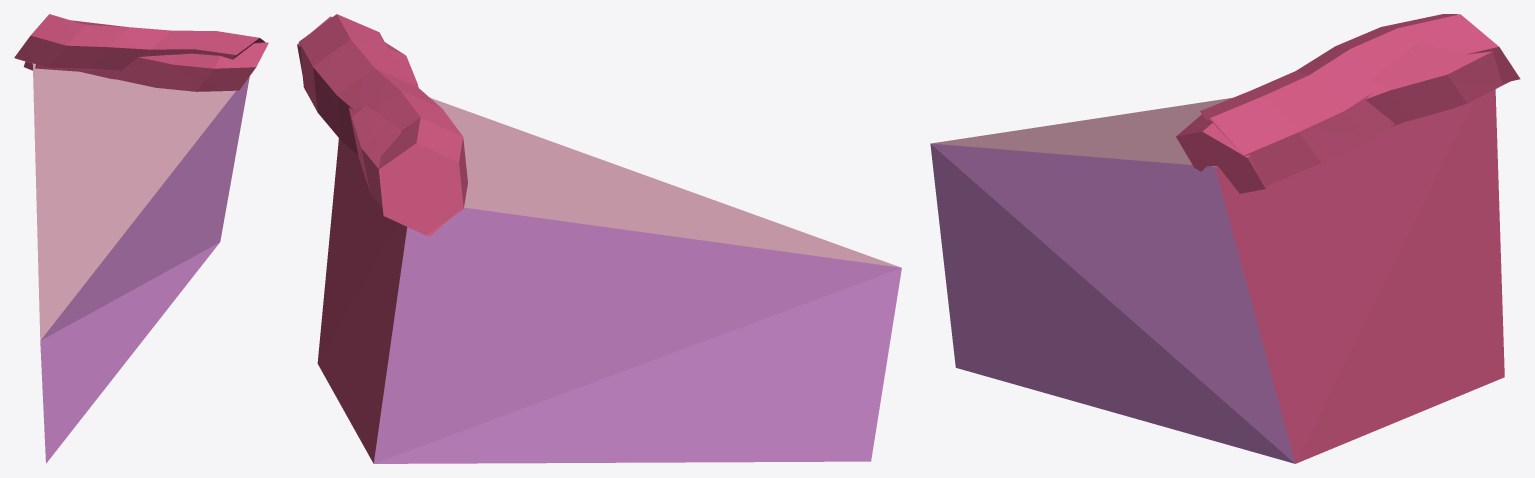
The picture shows the model from 3 angles, left to right: view 1: azimuth 30°, elevation 25°; view 2: azimuth 150°, elevation 25°; view 3: azimuth 270°, elevation 25°; orthographic projection. The views are drawn at different scales.
Visible parts, largest first — view 1: node_MeshObject-1729320768-PolyPaper7, node_MeshObject1757514176-PolyGem25; view 2: node_MeshObject1757514176-PolyGem25, node_MeshObject-1729320768-PolyPaper7; view 3: node_MeshObject-1729320768-PolyPaper7, node_MeshObject1757514176-PolyGem25.
Boxes of the visible parts, bbox=[...] form: node_MeshObject-1729320768-PolyPaper7: bbox=[14, 14, 268, 340]; node_MeshObject1757514176-PolyGem25: bbox=[40, 77, 249, 463]; node_MeshObject1757514176-PolyGem25: bbox=[373, 207, 901, 463]; node_MeshObject-1729320768-PolyPaper7: bbox=[297, 14, 900, 463]; node_MeshObject-1729320768-PolyPaper7: bbox=[931, 14, 1520, 463]; node_MeshObject1757514176-PolyGem25: bbox=[930, 143, 1295, 463].
Bounding box in the file's own units: 0.1715 × 0.1517 × 0.1684.
